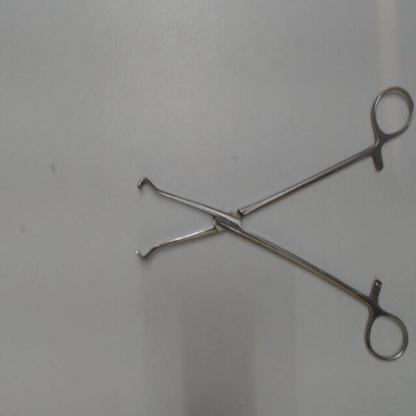8 Babcock Tissue Forceps: (128, 79, 413, 366)
